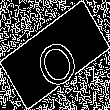O_NW: (27, 22, 83, 88)
